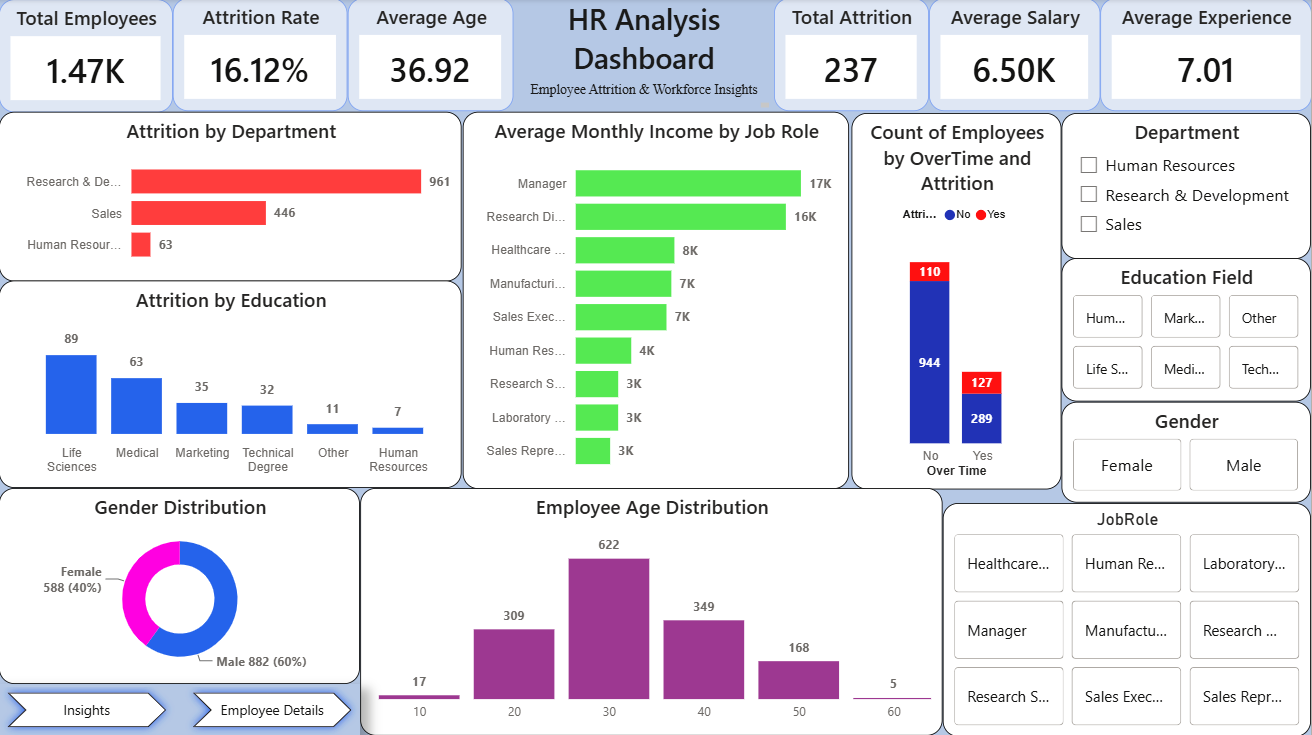

Layout of this report page (visuals, bound fields, positions):
{"tool":"powerbi","page":{"name":"Overview","canvas":[1280,720],"ordinal":0},"visuals":[{"type":"cardVisual","title":"Total Employees","fields":{"Data":["IBM Attrition Dataset.Total_Employees"]},"box":[0,1.2,169.3,110.4],"z":0},{"type":"cardVisual","title":"Total Attrition","fields":{"Data":["IBM Attrition Dataset.Total Attrition"]},"box":[755.8,0,150.9,110.4],"z":1000},{"type":"cardVisual","title":"Attrition Rate","fields":{"Data":["IBM Attrition Dataset.Attrition Rate"]},"box":[169.3,0,170.6,110.4],"z":2000},{"type":"cardVisual","title":"Average Salary","fields":{"Data":["IBM Attrition Dataset.Avg salary"]},"box":[906.8,0,166.9,110.4],"z":3000},{"type":"cardVisual","title":"Average Age","fields":{"Data":["IBM Attrition Dataset.Avg Age"]},"box":[339.9,0,162,110.4],"z":4000},{"type":"cardVisual","title":"Average Experience","fields":{"Data":["IBM Attrition Dataset.Avg experience"]},"box":[1073.6,0,206.1,110.4],"z":5000},{"type":"barChart","title":"Attrition by Department","fields":{"Category":["IBM Attrition Dataset.Department"],"Y":["CountNonNull(IBM Attrition Dataset.Attrition)"]},"box":[0,110.4,451.5,165.6],"z":6000},{"type":"donutChart","title":"Gender Distribution","fields":{"Y":["IBM Attrition Dataset.Total_Employees"],"Category":["IBM Attrition Dataset.Gender"]},"box":[0,478,352.4,191.4],"z":7000},{"type":"clusteredBarChart","title":"Average Monthly Income by Job Role","fields":{"Category":["IBM Attrition Dataset.JobRole"],"Y":["IBM Attrition Dataset.Avg salary"]},"box":[452.8,110.4,376.7,368.1],"z":8000},{"type":"lineClusteredColumnComboChart","title":"Attrition by Education","fields":{"Category":["IBM Attrition Dataset.EducationField"],"Y":["IBM Attrition Dataset.Total Attrition"]},"box":[0,276.1,451.5,202.5],"z":9000},{"type":"columnChart","title":"Count of Employees by OverTime and Attrition","fields":{"Category":["IBM Attrition Dataset.OverTime"],"Series":["IBM Attrition Dataset.Attrition"],"Y":["CountNonNull(IBM Attrition Dataset.EmployeeNumber)"]},"box":[831.9,111.7,204.9,366.9],"z":10000},{"type":"clusteredColumnChart","title":"Employee Age Distribution","fields":{"Y":["CountNonNull(IBM Attrition Dataset.EmployeeNumber)"],"Category":["IBM Attrition Dataset.Age Group"]},"box":[352.1,478.5,568.1,241.7],"z":11000},{"type":"textbox","title":"HR Analysis  Dashboard","box":[502.3,1.2,253.6,111],"z":12000},{"type":"slicer","title":"Department","fields":{"Values":["IBM Attrition Dataset.Department"]},"box":[1036.8,111.7,242.9,142.3],"z":13000},{"type":"advancedSlicerVisual","fields":{"Values":["IBM Attrition Dataset.Gender"]},"box":[1036.8,393.9,242.9,98.2],"z":14000},{"type":"advancedSlicerVisual","fields":{"Values":["IBM Attrition Dataset.JobRole"]},"box":[920.3,492,359.5,228.2],"z":15000},{"type":"advancedSlicerVisual","title":"Education Field","fields":{"Values":["IBM Attrition Dataset.EducationField"]},"box":[1036.8,254,242.9,139.9],"z":16000},{"type":"bookmarkNavigator","box":[0,629.5,352.1,90.8],"z":17000},{"type":"pageNavigator","box":[0,669.9,352.1,50.3],"z":18000}]}

Visuals, with their boxes in screenshot pixels (x1, y1, x2, y2), scaled from the page's 1280x720 canvas onto the 1312x735 screenshot:
"Total Employees" cardVisual: locate(0, 1, 174, 114)
"Total Attrition" cardVisual: locate(775, 0, 929, 113)
"Attrition Rate" cardVisual: locate(174, 0, 348, 113)
"Average Salary" cardVisual: locate(929, 0, 1101, 113)
"Average Age" cardVisual: locate(348, 0, 514, 113)
"Average Experience" cardVisual: locate(1100, 0, 1311, 113)
"Attrition by Department" barChart: locate(0, 113, 463, 282)
"Gender Distribution" donutChart: locate(0, 488, 361, 683)
"Average Monthly Income by Job Role" clusteredBarChart: locate(464, 113, 850, 488)
"Attrition by Education" lineClusteredColumnComboChart: locate(0, 282, 463, 489)
"Count of Employees by OverTime and Attrition" columnChart: locate(853, 114, 1063, 489)
"Employee Age Distribution" clusteredColumnChart: locate(361, 488, 943, 734)
"HR Analysis  Dashboard" textbox: locate(515, 1, 775, 115)
"Department" slicer: locate(1063, 114, 1311, 259)
advancedSlicerVisual - IBM Attrition Dataset.Gender: locate(1063, 402, 1311, 502)
advancedSlicerVisual - IBM Attrition Dataset.JobRole: locate(943, 502, 1311, 734)
"Education Field" advancedSlicerVisual: locate(1063, 259, 1311, 402)
bookmarkNavigator: locate(0, 643, 361, 734)
pageNavigator: locate(0, 684, 361, 734)
